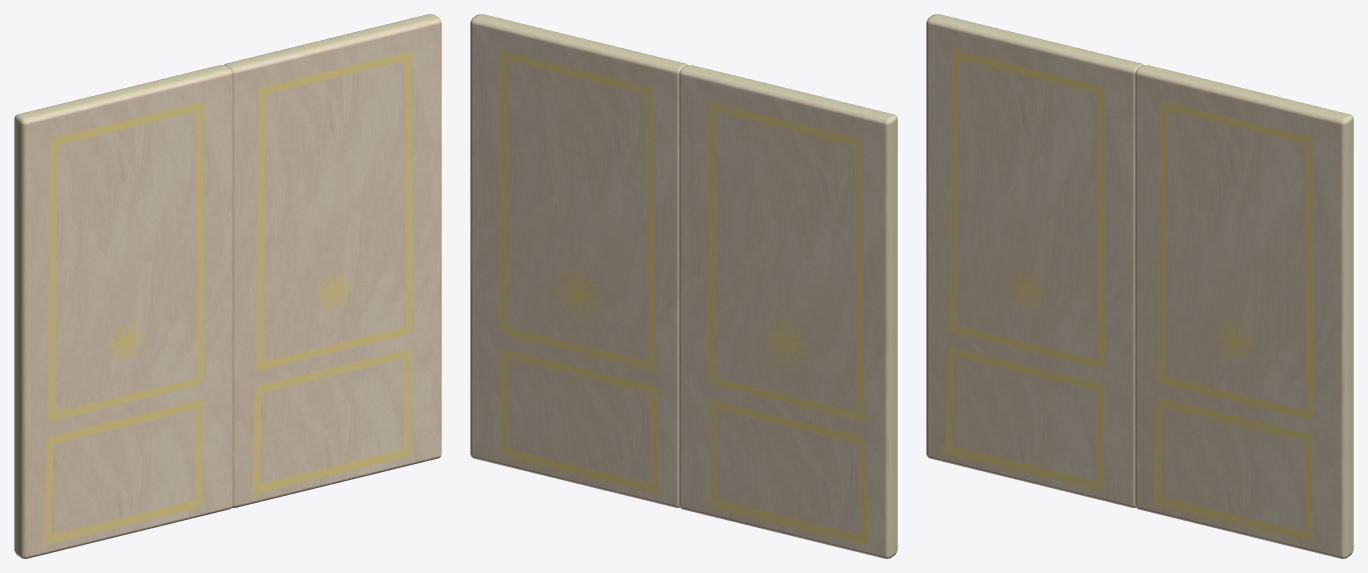
Rendered from Doors.fbx.
3 renders of one model, left to right at view 1: azimuth 30°, elevation 25°; view 2: azimuth 150°, elevation 25°; view 3: azimuth 330°, elevation 25°, orthographic.
Visible parts, largest first — view 1: DoorBedroom_01__1_, DoorBedroom_01__3_; view 2: DoorBedroom_01__1_, DoorBedroom_01__3_; view 3: DoorBedroom_01__3_, DoorBedroom_01__1_.
Part boxes in pixels (box(x1,y1,x2,y2)): DoorBedroom_01__1_: box(14, 65, 232, 558); DoorBedroom_01__3_: box(224, 14, 441, 507); DoorBedroom_01__1_: box(679, 65, 897, 558); DoorBedroom_01__3_: box(470, 14, 687, 507); DoorBedroom_01__3_: box(1135, 65, 1353, 558); DoorBedroom_01__1_: box(926, 14, 1143, 507).
Size of the model in its own units: 311 by 311 by 13.56.
